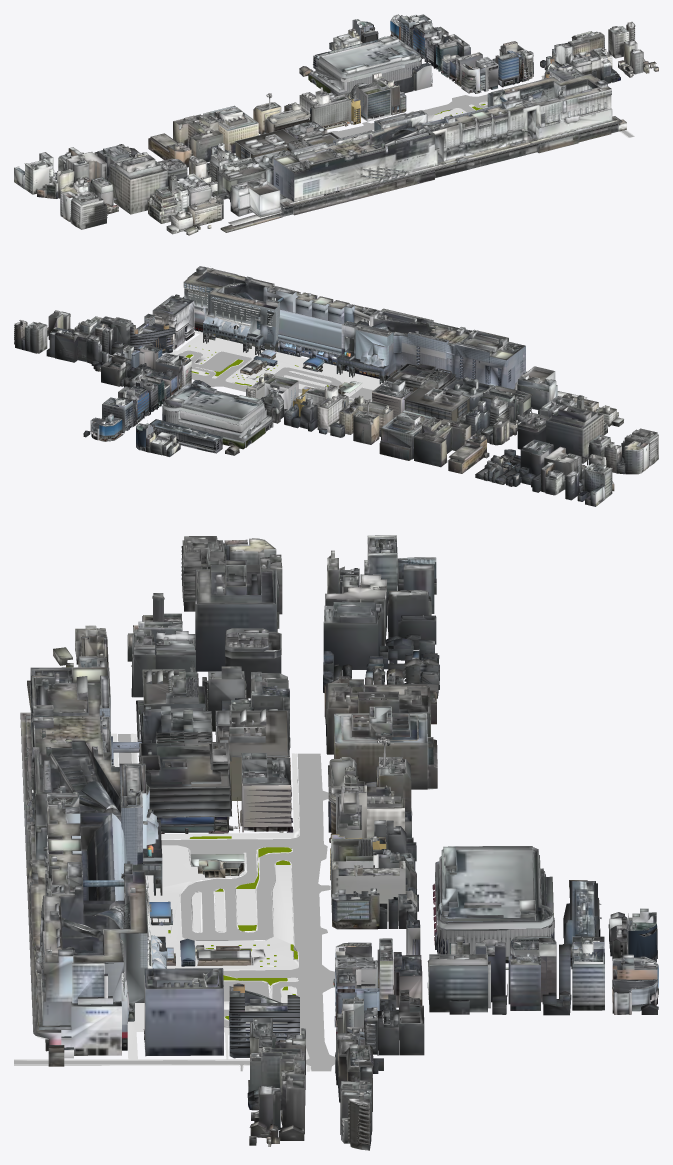
The model's file is kyoto-station-district-far.glb.
The picture shows the model from 3 angles, top to bottom: view 1: azimuth 30°, elevation 25°; view 2: azimuth 150°, elevation 25°; view 3: azimuth 270°, elevation 25°; orthographic projection. The views are drawn at different scales.
Size of the model in its own units: 847 by 71.75 by 406.
17 materials, 12 textured.
